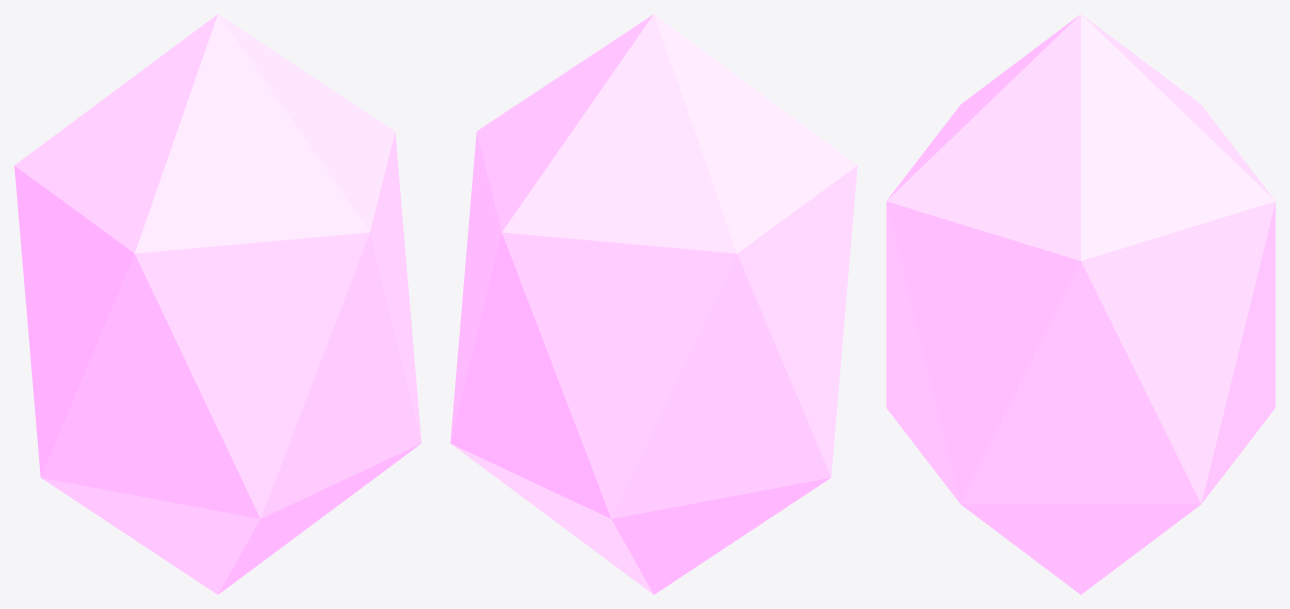
File: find_ruby.fbx
The picture shows the model from 3 angles, left to right: view 1: azimuth 30°, elevation 25°; view 2: azimuth 150°, elevation 25°; view 3: azimuth 270°, elevation 25°; orthographic projection.
Visible parts, largest first — view 1: find_ruby; view 2: find_ruby; view 3: find_ruby.
Boxes of the visible parts, box(x1,y1,x2,y2) form: find_ruby: box(14, 14, 421, 594); find_ruby: box(450, 14, 857, 594); find_ruby: box(886, 14, 1275, 594).
Size of the model in its own units: 1.79 by 2.8 by 1.7.
